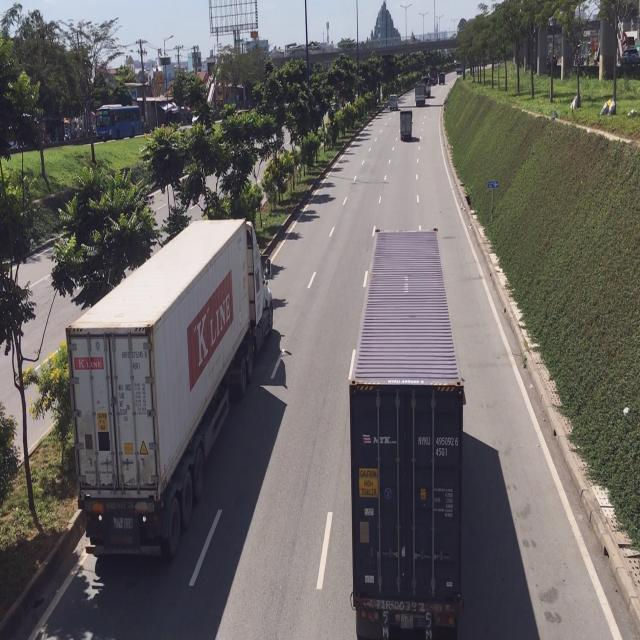truck: (68, 218, 274, 568), (348, 226, 469, 640), (398, 108, 414, 140), (416, 85, 428, 108)
